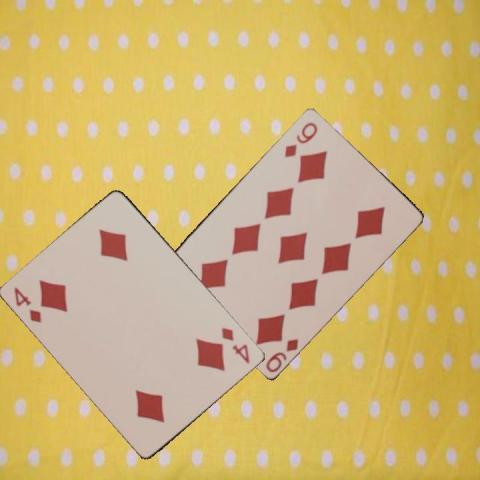4d: (219, 324, 252, 365), (11, 284, 44, 325)
9d: (282, 118, 320, 158), (263, 335, 300, 374)
